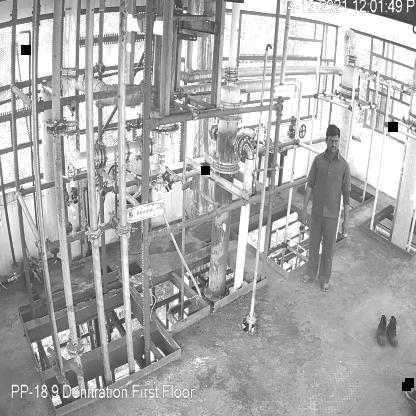no_shoes: (299, 273, 316, 283), (319, 281, 330, 295)
shoes: (375, 314, 391, 348), (387, 316, 400, 346)
